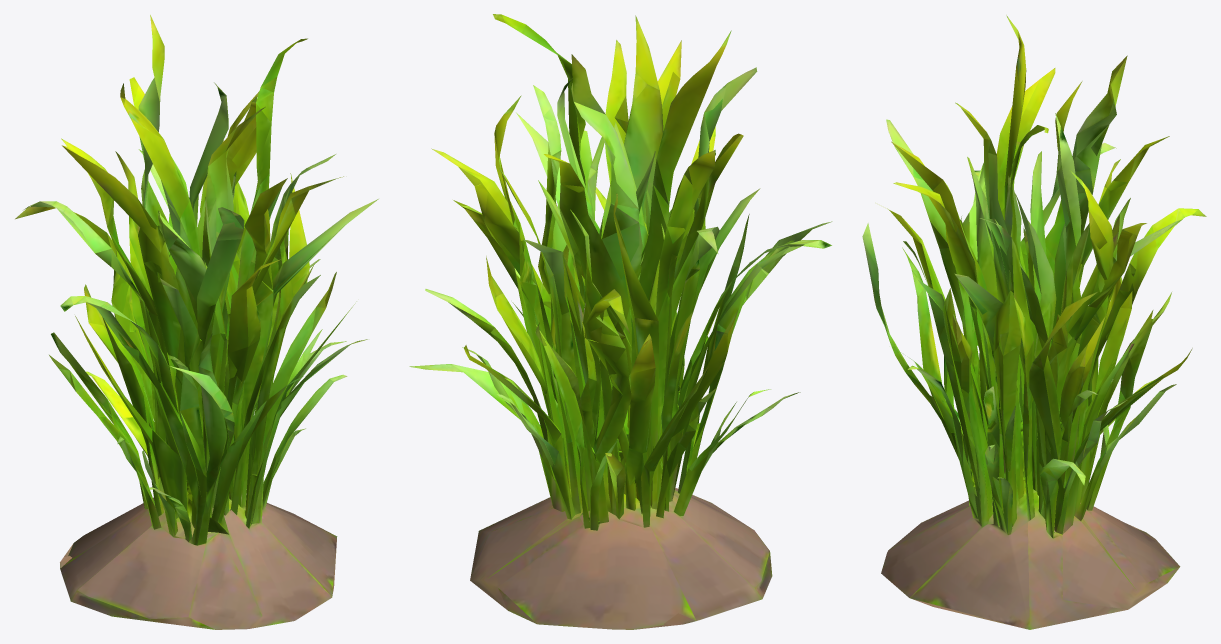
File: seagrass.glb
The picture shows the model from 3 angles, left to right: view 1: azimuth 30°, elevation 25°; view 2: azimuth 150°, elevation 25°; view 3: azimuth 270°, elevation 25°; orthographic projection. The views are drawn at different scales.
Size of the model in its own units: 1.3 by 1.89 by 1.15.
Materials: 1 (1 with a texture image).
